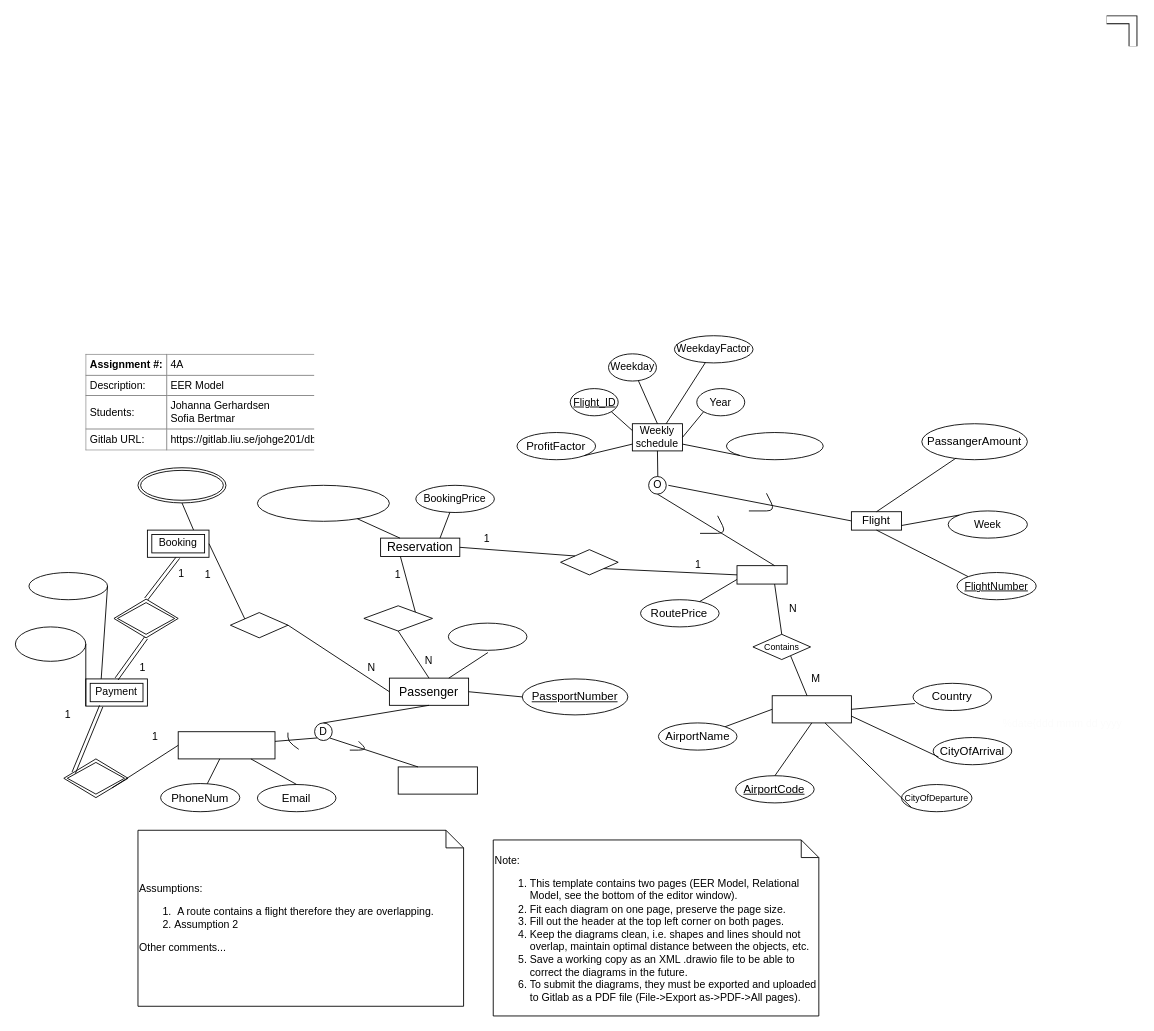
Image size: 1154x1031. Some labels were removed from this diagram. Here are the shapes that lost their labels. From the top down, the centre of each, then its label:
point (774, 446): TimeOfDeparture
point (181, 485): TicketNumber
point (323, 502): ReservationNumber
point (589, 562): Has
point (761, 574): Route
point (68, 586): CardHolder
point (145, 618): Creates
point (259, 625): Gives
point (398, 618): Accommodate
point (487, 636): FullName
point (50, 643): CardNum
point (811, 709): Airport
point (226, 745): BookingContact
point (95, 778): Exists
point (437, 780): Traveller
